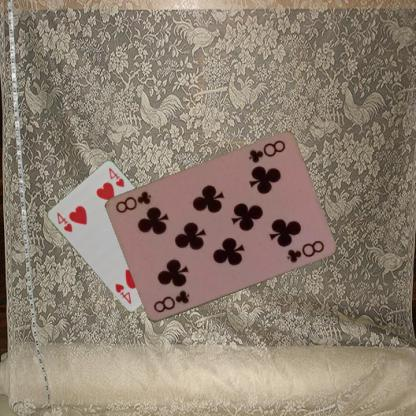4h: (54, 210, 73, 233)
8c: (245, 138, 286, 164), (151, 288, 191, 314)
